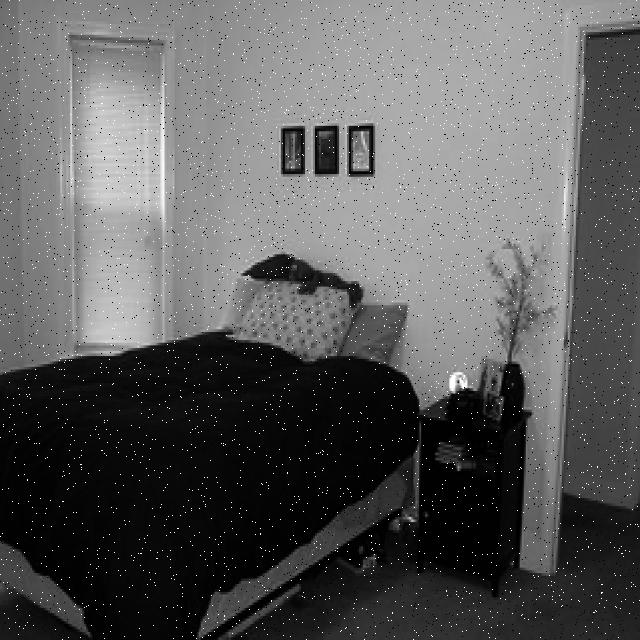bed: (0, 263, 431, 638)
